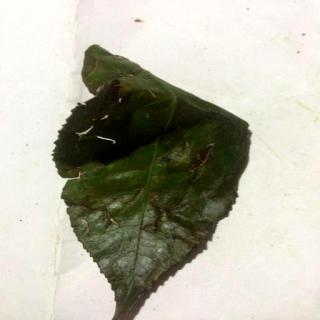Red Leaf Spot: (55, 45, 251, 320)
